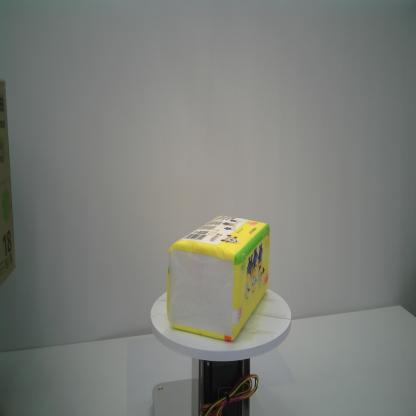Tissue: (166, 214, 270, 342)
